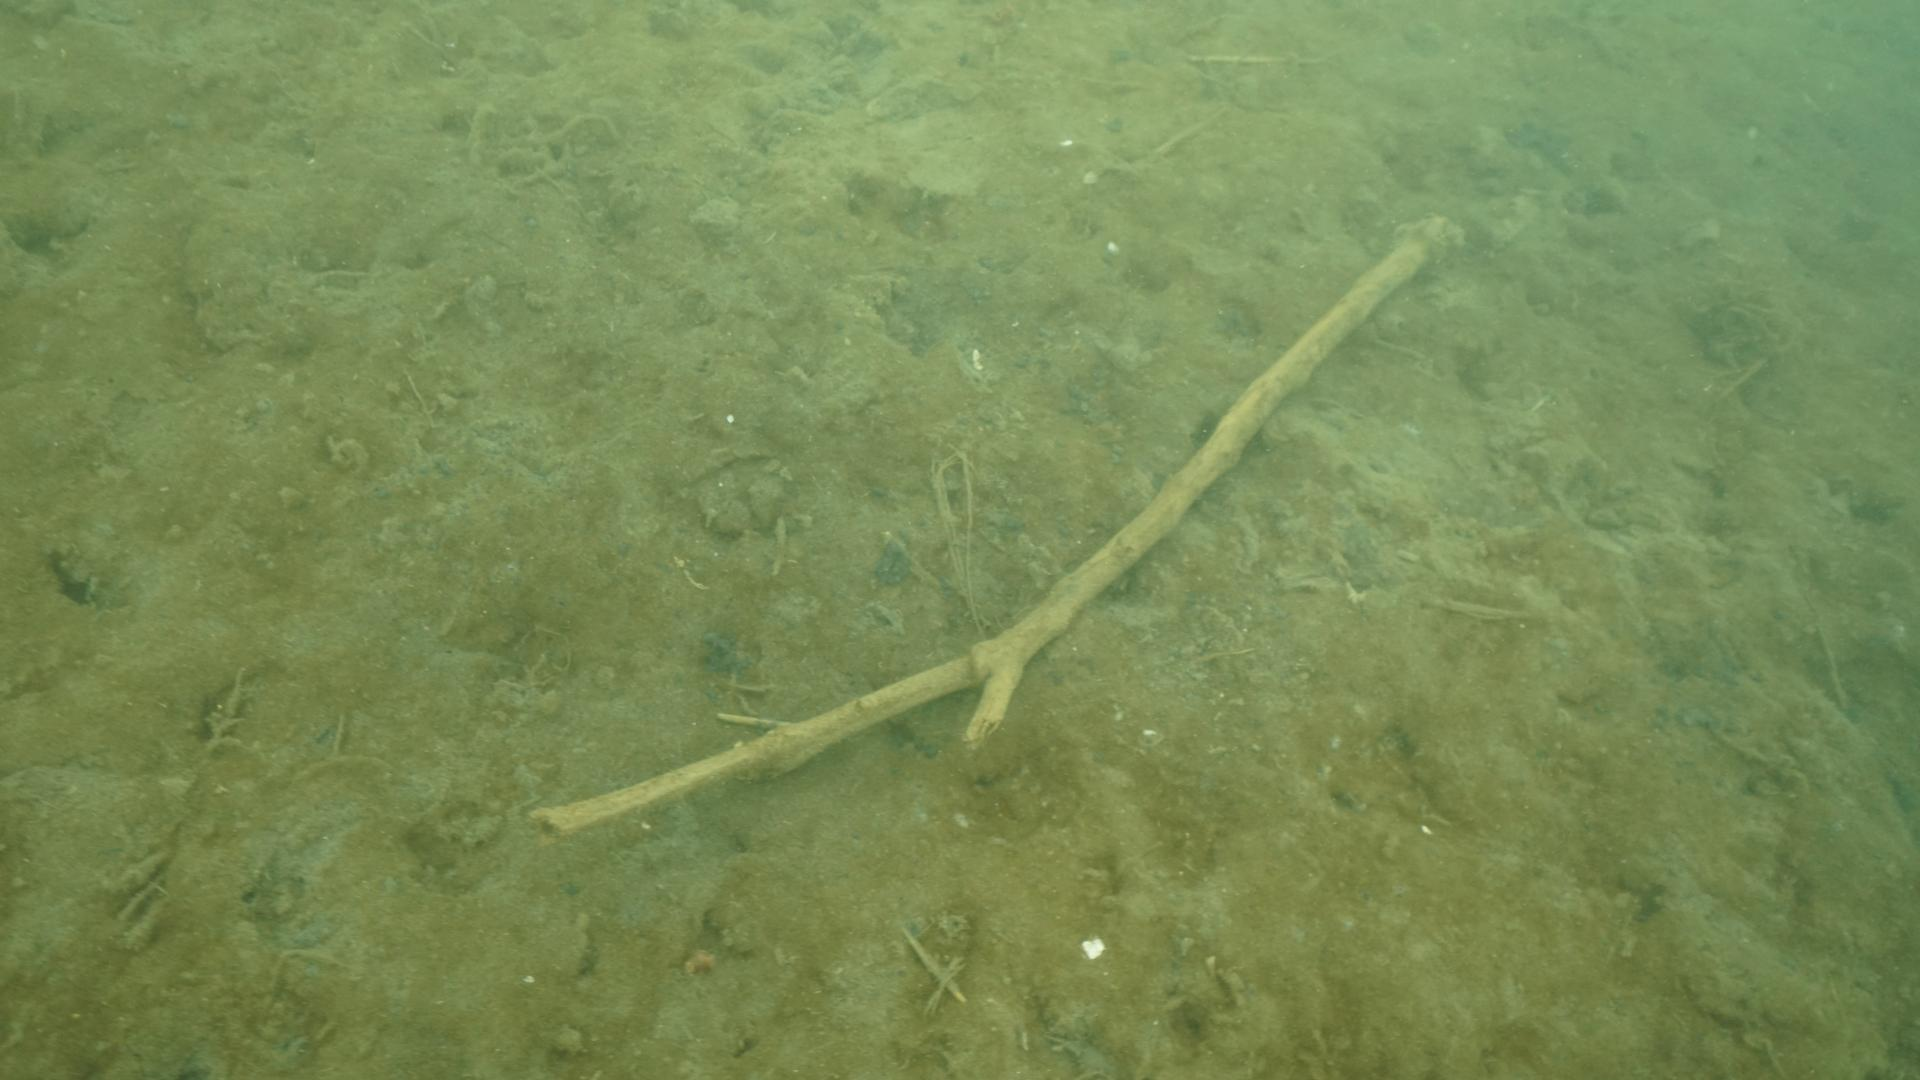wood: (527, 215, 1458, 839)
